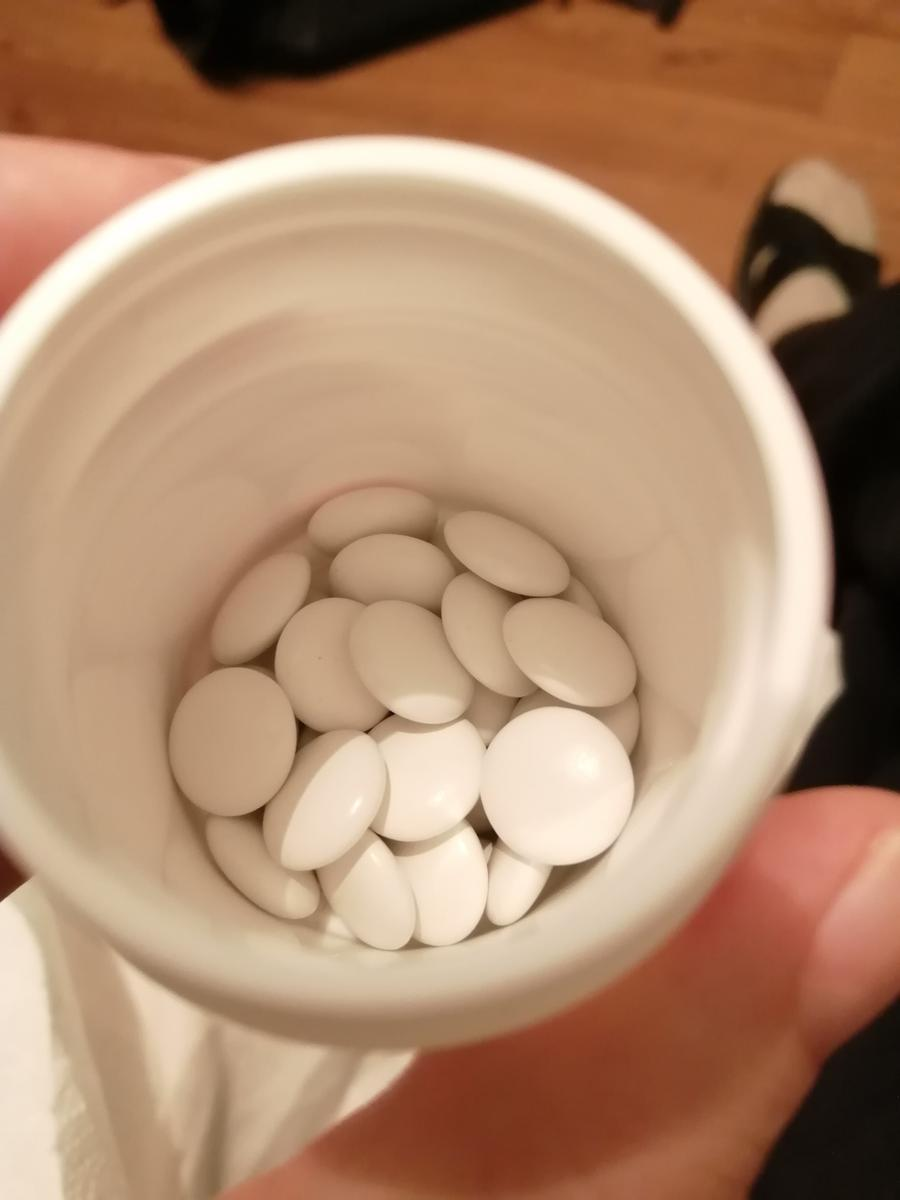tablet: (484, 699, 637, 861), (162, 663, 294, 813), (255, 726, 391, 869), (358, 706, 487, 840), (275, 592, 396, 733), (355, 597, 472, 726), (374, 819, 487, 950), (505, 599, 637, 706), (315, 830, 422, 959), (439, 571, 541, 695), (203, 816, 317, 923), (443, 509, 575, 597), (329, 535, 455, 625), (210, 557, 312, 659), (310, 481, 434, 561)
